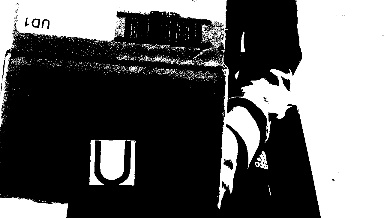U: (90, 138, 134, 183)
